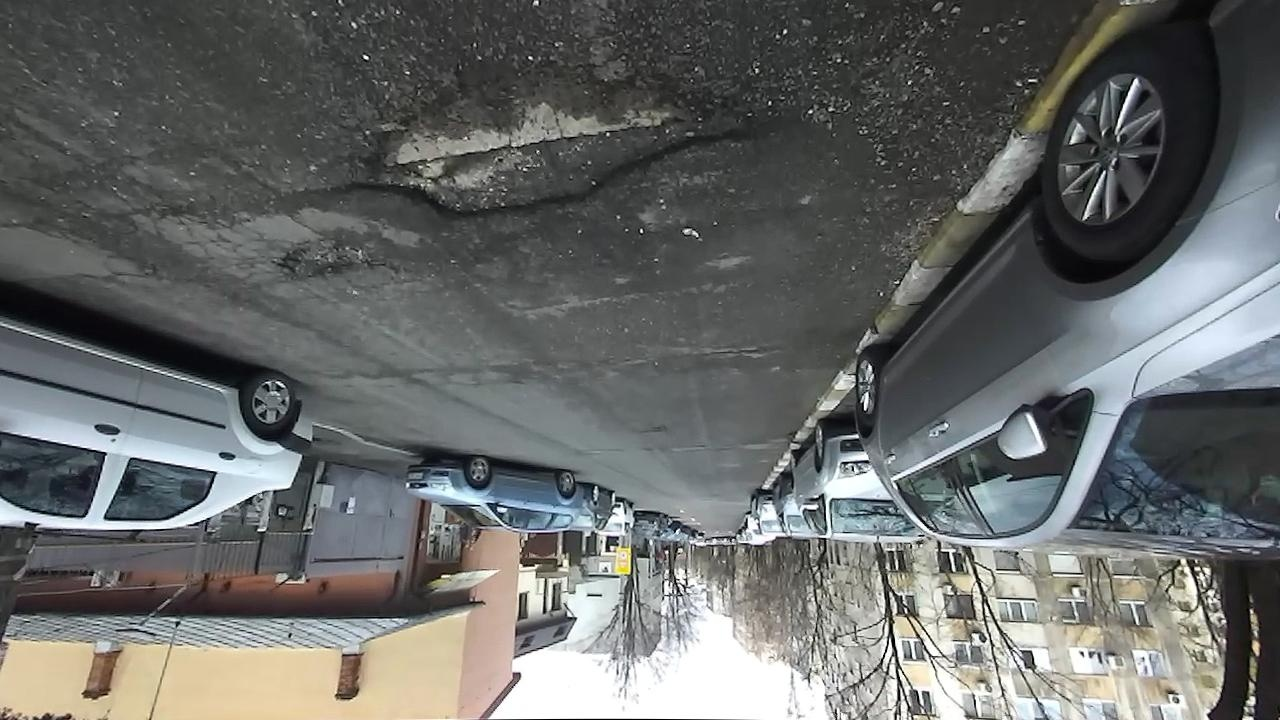pothole: (338, 54, 770, 228), (262, 235, 399, 287), (695, 340, 780, 362)
